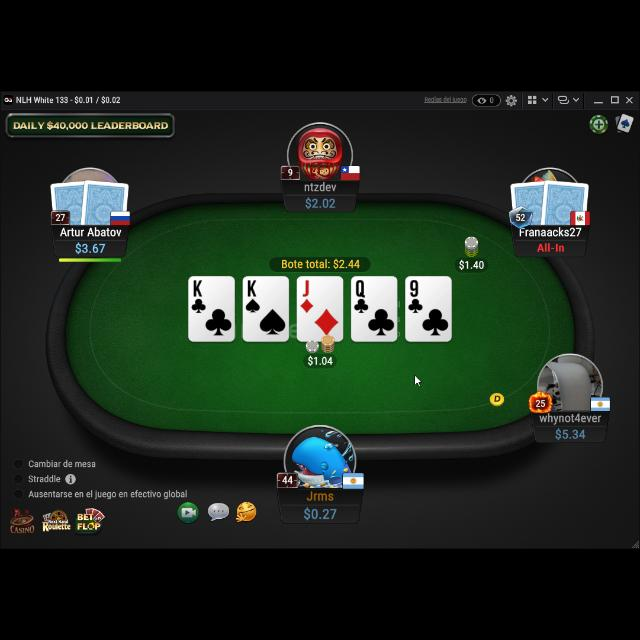9c: (407, 279, 425, 315)
Jd: (299, 279, 317, 315)
Kc: (191, 277, 207, 315)
Ks: (244, 277, 264, 315)
Qc: (352, 279, 370, 317)
all_in_symbol: (535, 242, 567, 256)
bet_text: (458, 259, 488, 273), (306, 355, 336, 367)
card_back: (538, 178, 592, 230), (80, 177, 132, 230), (508, 180, 554, 230), (47, 180, 93, 228)
dealer: (487, 389, 508, 409)
pot_text: (280, 258, 360, 270)
stack_text: (301, 505, 339, 523), (552, 425, 590, 441), (72, 241, 108, 257), (302, 196, 340, 210)
